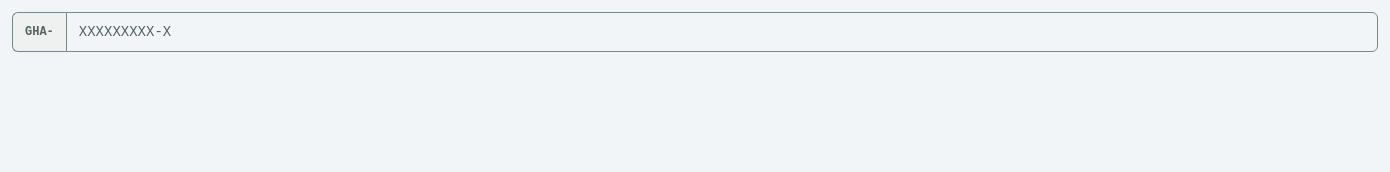
Test: GhanaCardInput – inline error after blur › clears the inline error once a valid value is entered
Type "12345" into the field at (722, 32), box [66,12,1378,52]
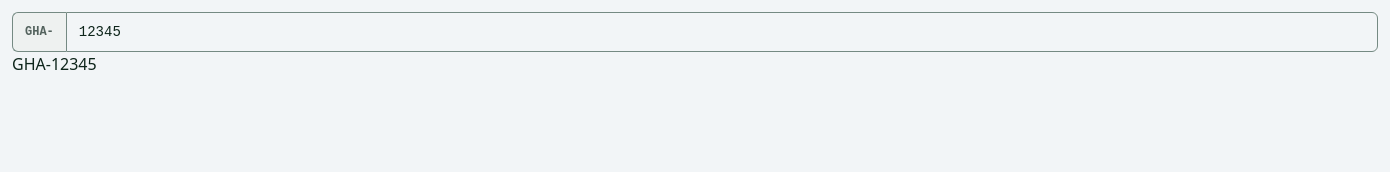
Leave the field, box [66,12,1378,52]
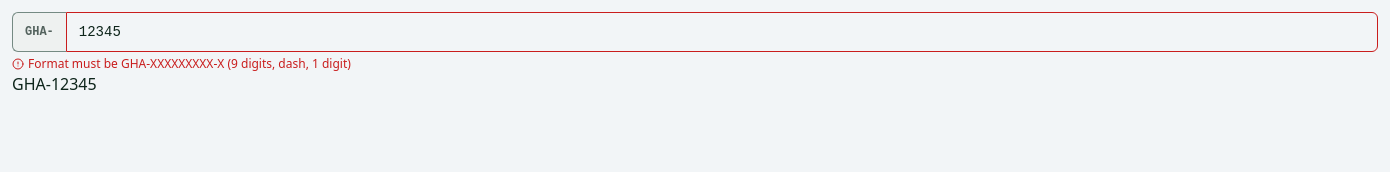
Expected: the text "Format must be GHA-XXXXXXXXX-X (9 digits, dash, 1 digit)" is shown, [12,55,351,72]
Replace the text in the field with "1234567891" at (722, 32), box [66,12,1378,52]
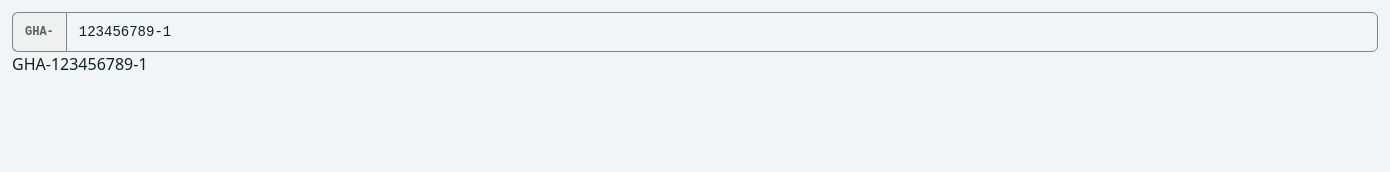
Expected: the text with test id "raw" reads "GHA-123456789-1", [12,53,148,75]
Expected: the text "Format must be GHA-XXXXXXXXX-X" is gone
